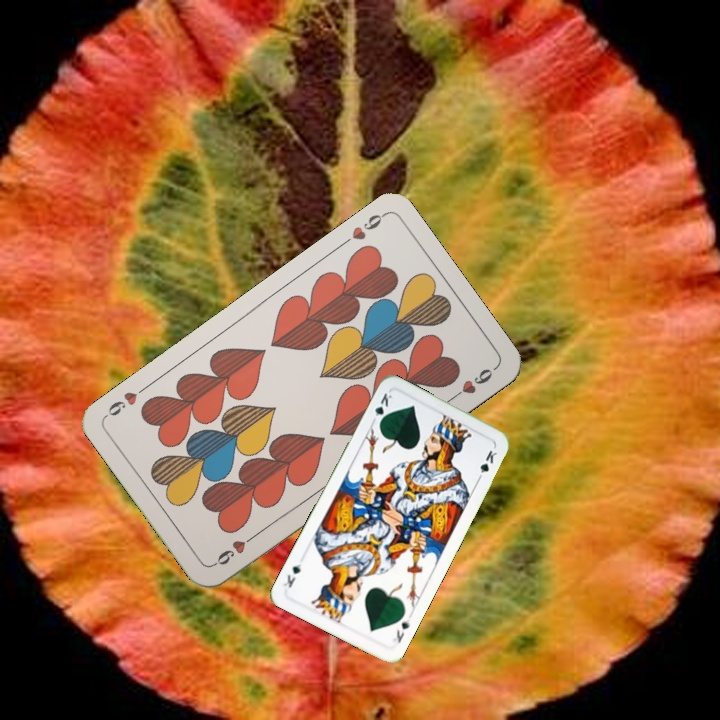GK: (368, 389, 395, 428), (389, 611, 414, 645)
H9: (209, 528, 261, 569), (337, 209, 388, 249)
